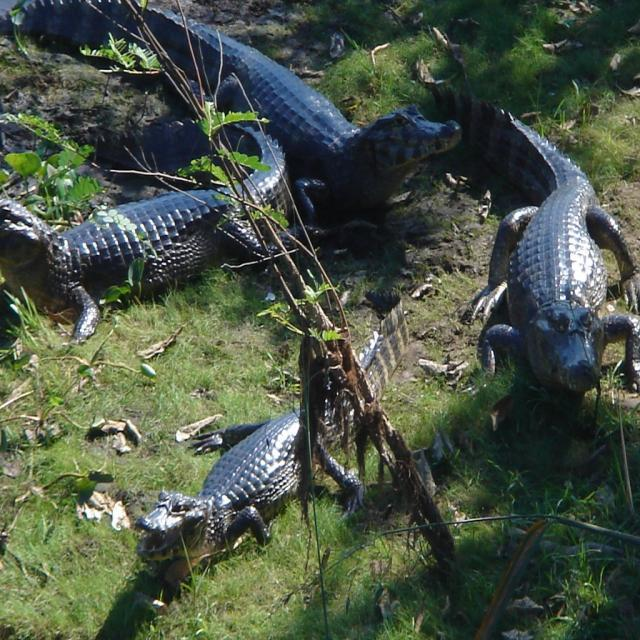crocodile: (0, 0, 639, 448), (113, 294, 419, 611)
